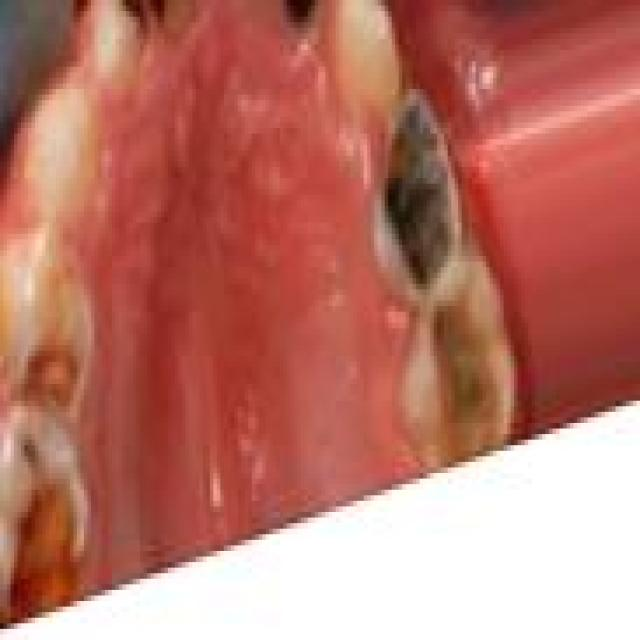caries: (362, 92, 466, 303), (417, 281, 504, 458), (6, 461, 96, 607), (11, 310, 94, 428)
